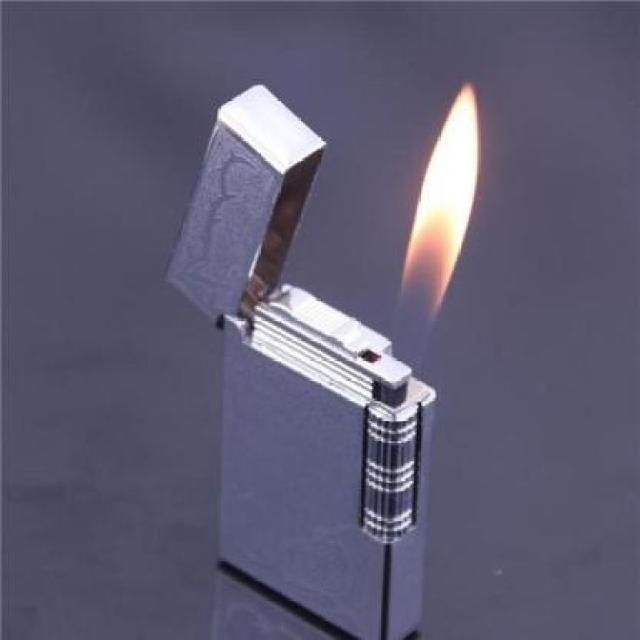Fire: (391, 80, 483, 362)
